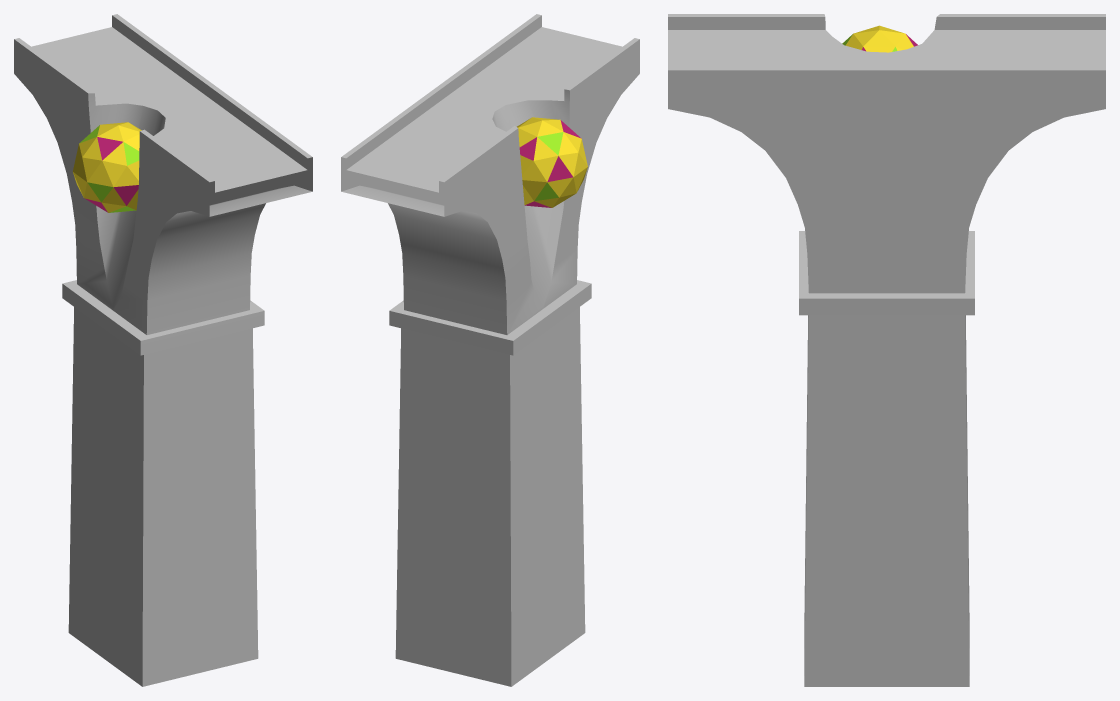
File: мост с сферой.fbx
3 renders of one model, left to right at view 1: azimuth 30°, elevation 25°; view 2: azimuth 150°, elevation 25°; view 3: azimuth 270°, elevation 25°, orthographic. The views are drawn at different scales.
Parts seen in each view (by area): view 1: Cube, Икосфера; view 2: Cube, Икосфера; view 3: Cube, Икосфера.
Part boxes in pixels (x1,y1,x2,y2): Cube: [14, 14, 312, 686]; Икосфера: [72, 122, 141, 212]; Cube: [341, 14, 639, 686]; Икосфера: [517, 117, 587, 207]; Cube: [668, 14, 1105, 686]; Икосфера: [842, 25, 917, 52].
Size of the model in its own units: 4.18 by 14.68 by 9.5.
